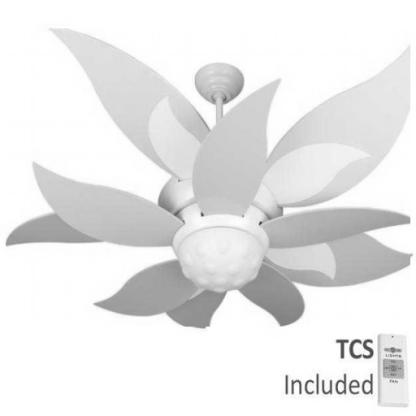ceiling-fan: (6, 28, 411, 328)
